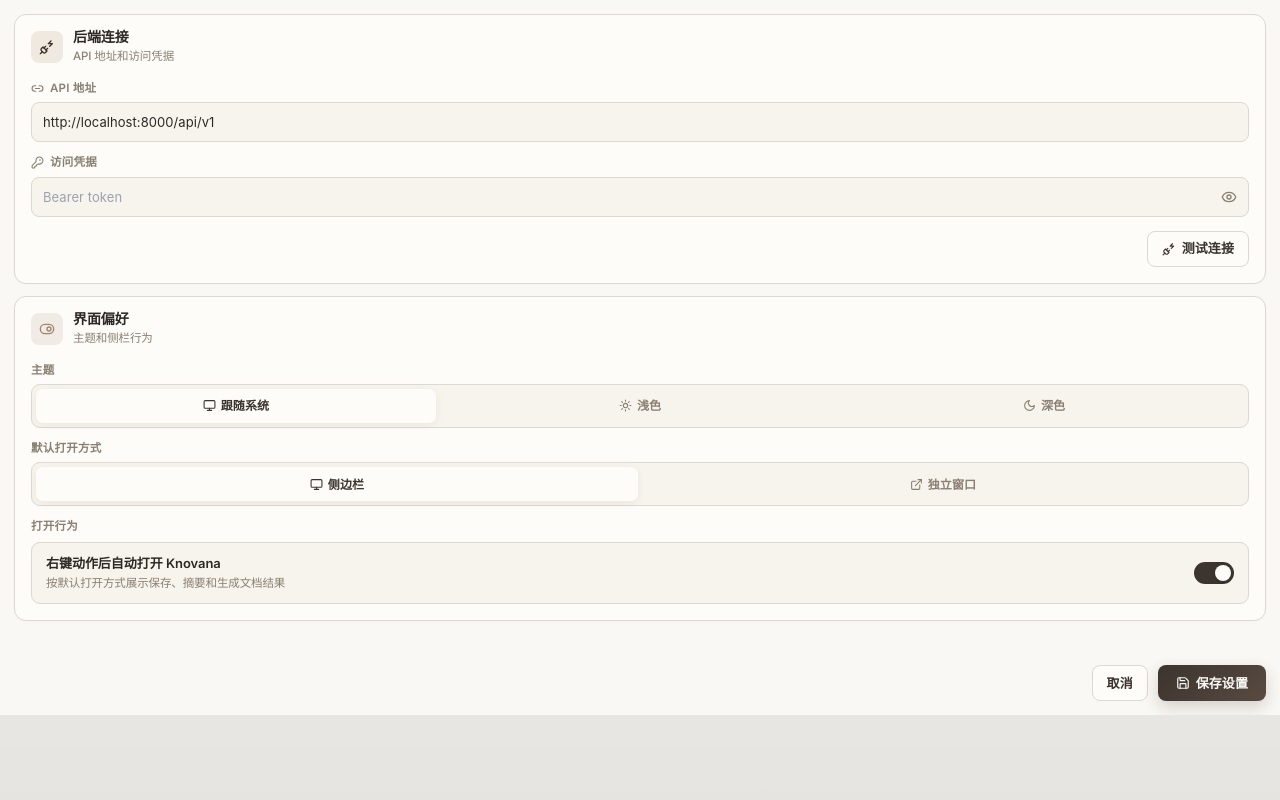
it: SettingsPanel › tests the normalized backend URL with the configured token
Type "http://localhost:9000" into the field labelled "API 地址" at (640, 122), box [31, 102, 1249, 142]
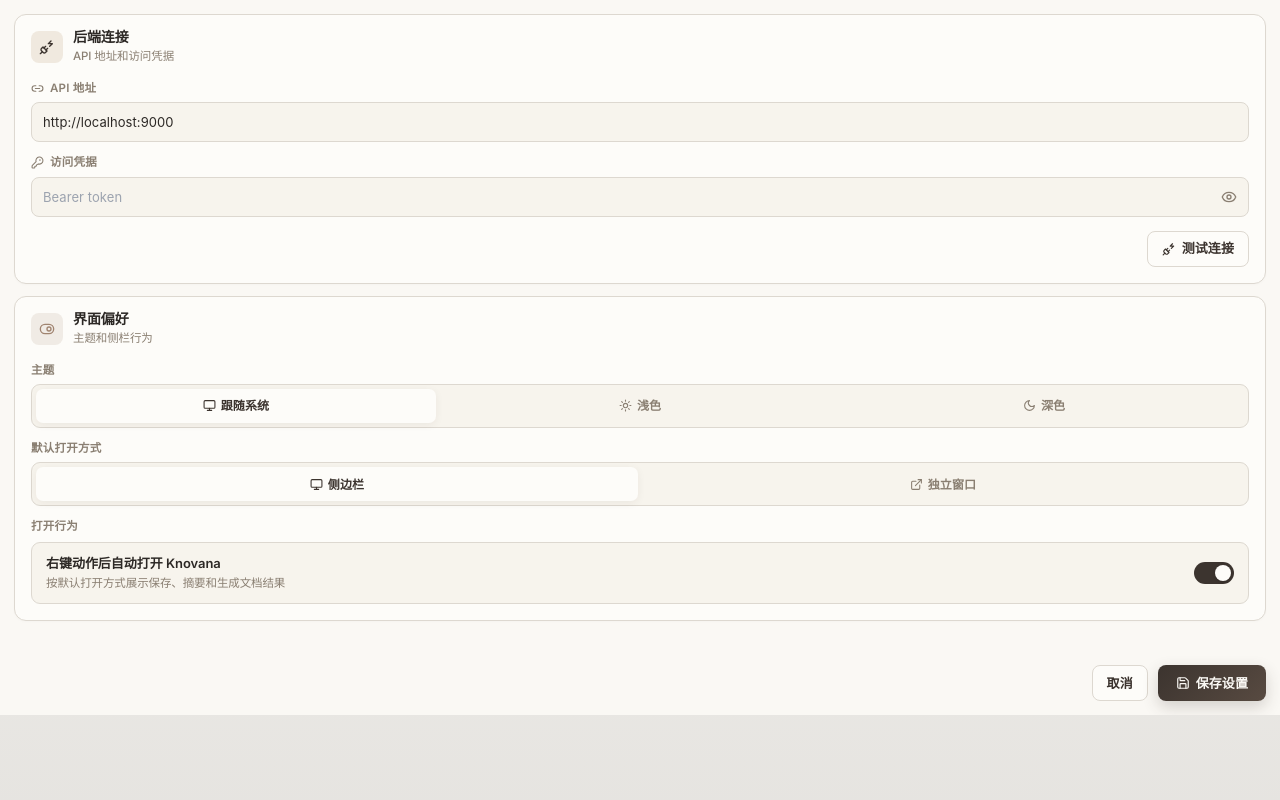
Type "abc" into the password field labelled "访问凭据" at (640, 197), box [31, 177, 1249, 217]
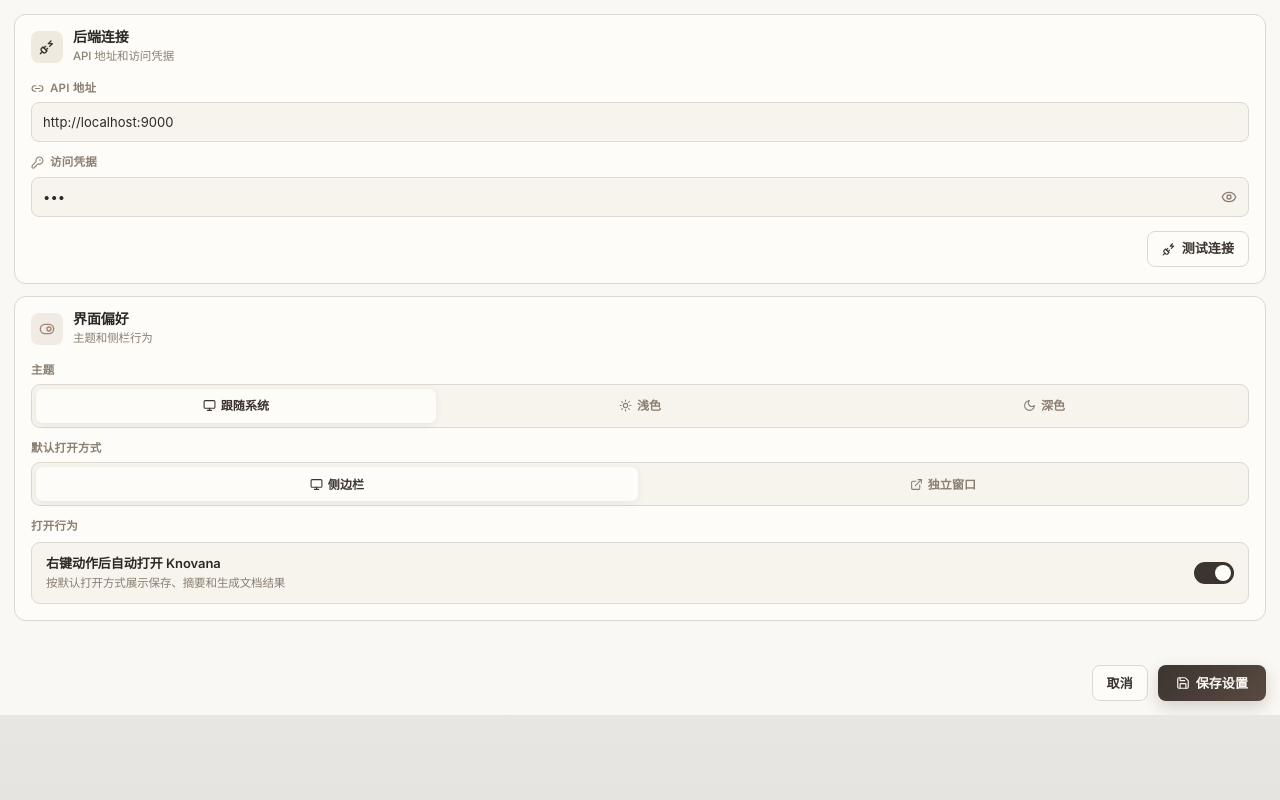
Click the button "测试连接" at (1198, 249), box [1147, 231, 1249, 267]
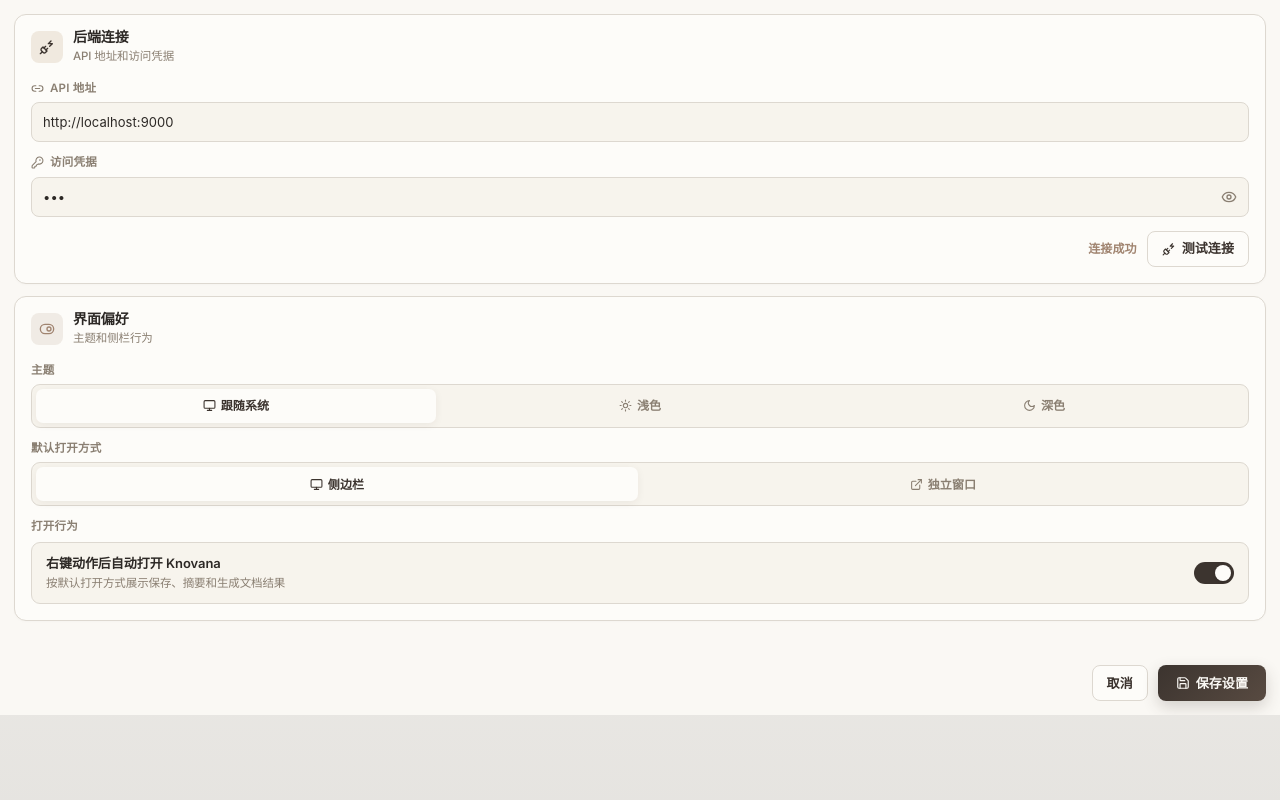
Result: the text "连接成功" is shown at [1088, 239, 1137, 258]
